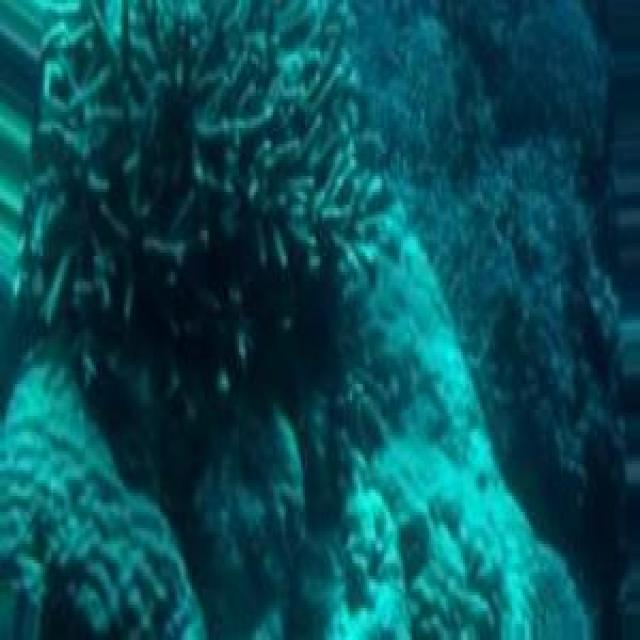Bleached: (321, 206, 613, 638), (1, 369, 204, 638)
Healthy: (27, 1, 368, 398)
